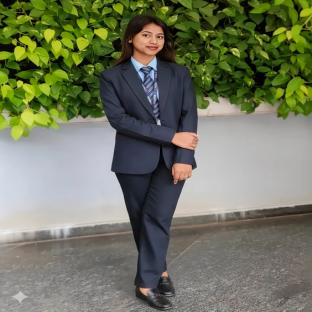Human: (100, 15, 199, 310)
